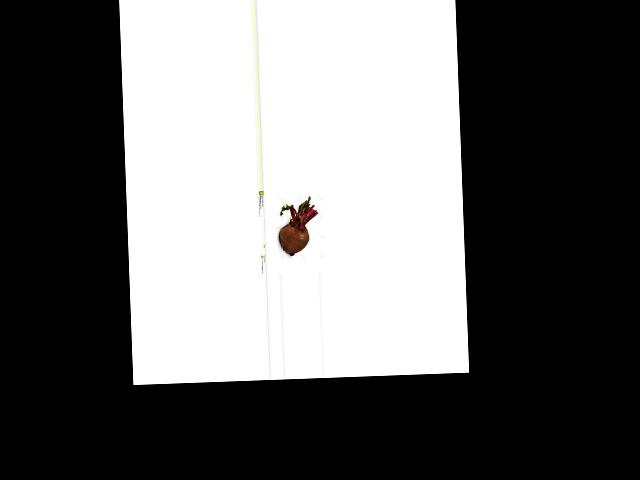beet: (278, 196, 319, 256)
